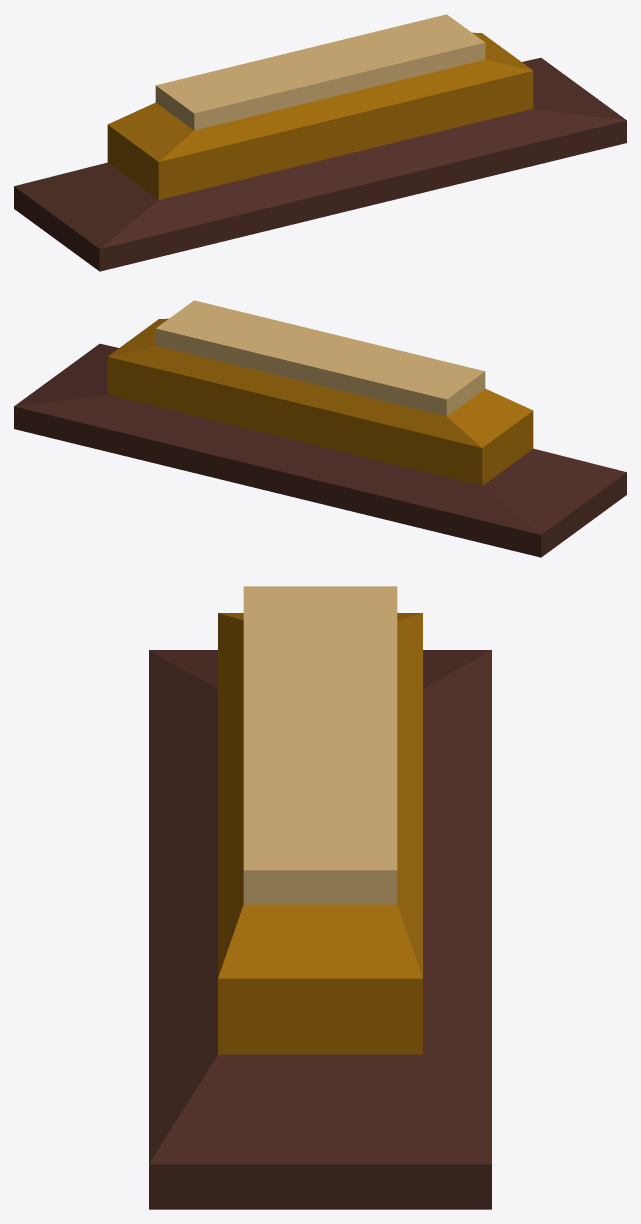
Rendered from DoorTop.fbx.
The picture shows the model from 3 angles, top to bottom: view 1: azimuth 30°, elevation 25°; view 2: azimuth 150°, elevation 25°; view 3: azimuth 270°, elevation 25°; orthographic projection. The views are drawn at different scales.
Visible parts, largest first — view 1: Box001; view 2: Box001; view 3: Box001.
Boxes of the visible parts, box(x1,y1,x2,y2) form: Box001: box(14, 14, 626, 271); Box001: box(14, 300, 626, 557); Box001: box(149, 586, 491, 1209).
Size of the model in its own units: 125 by 30.58 by 35.32.
1 material, 1 textured.
